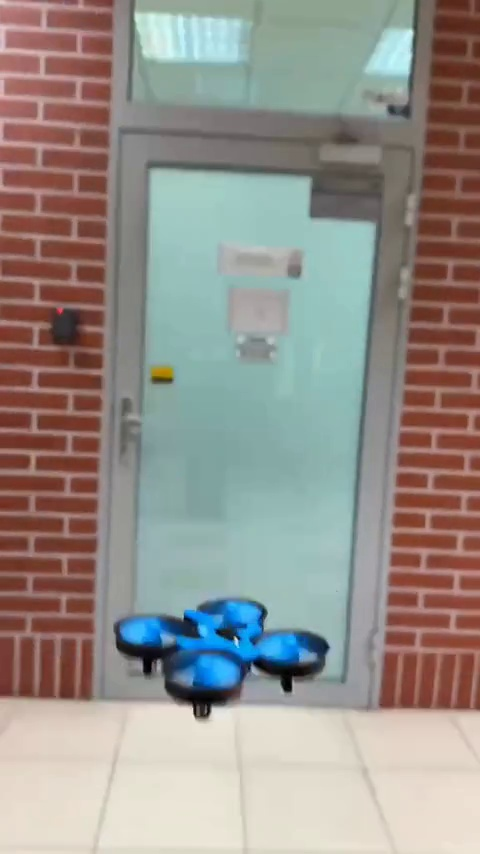drone: (111, 596, 333, 721)
